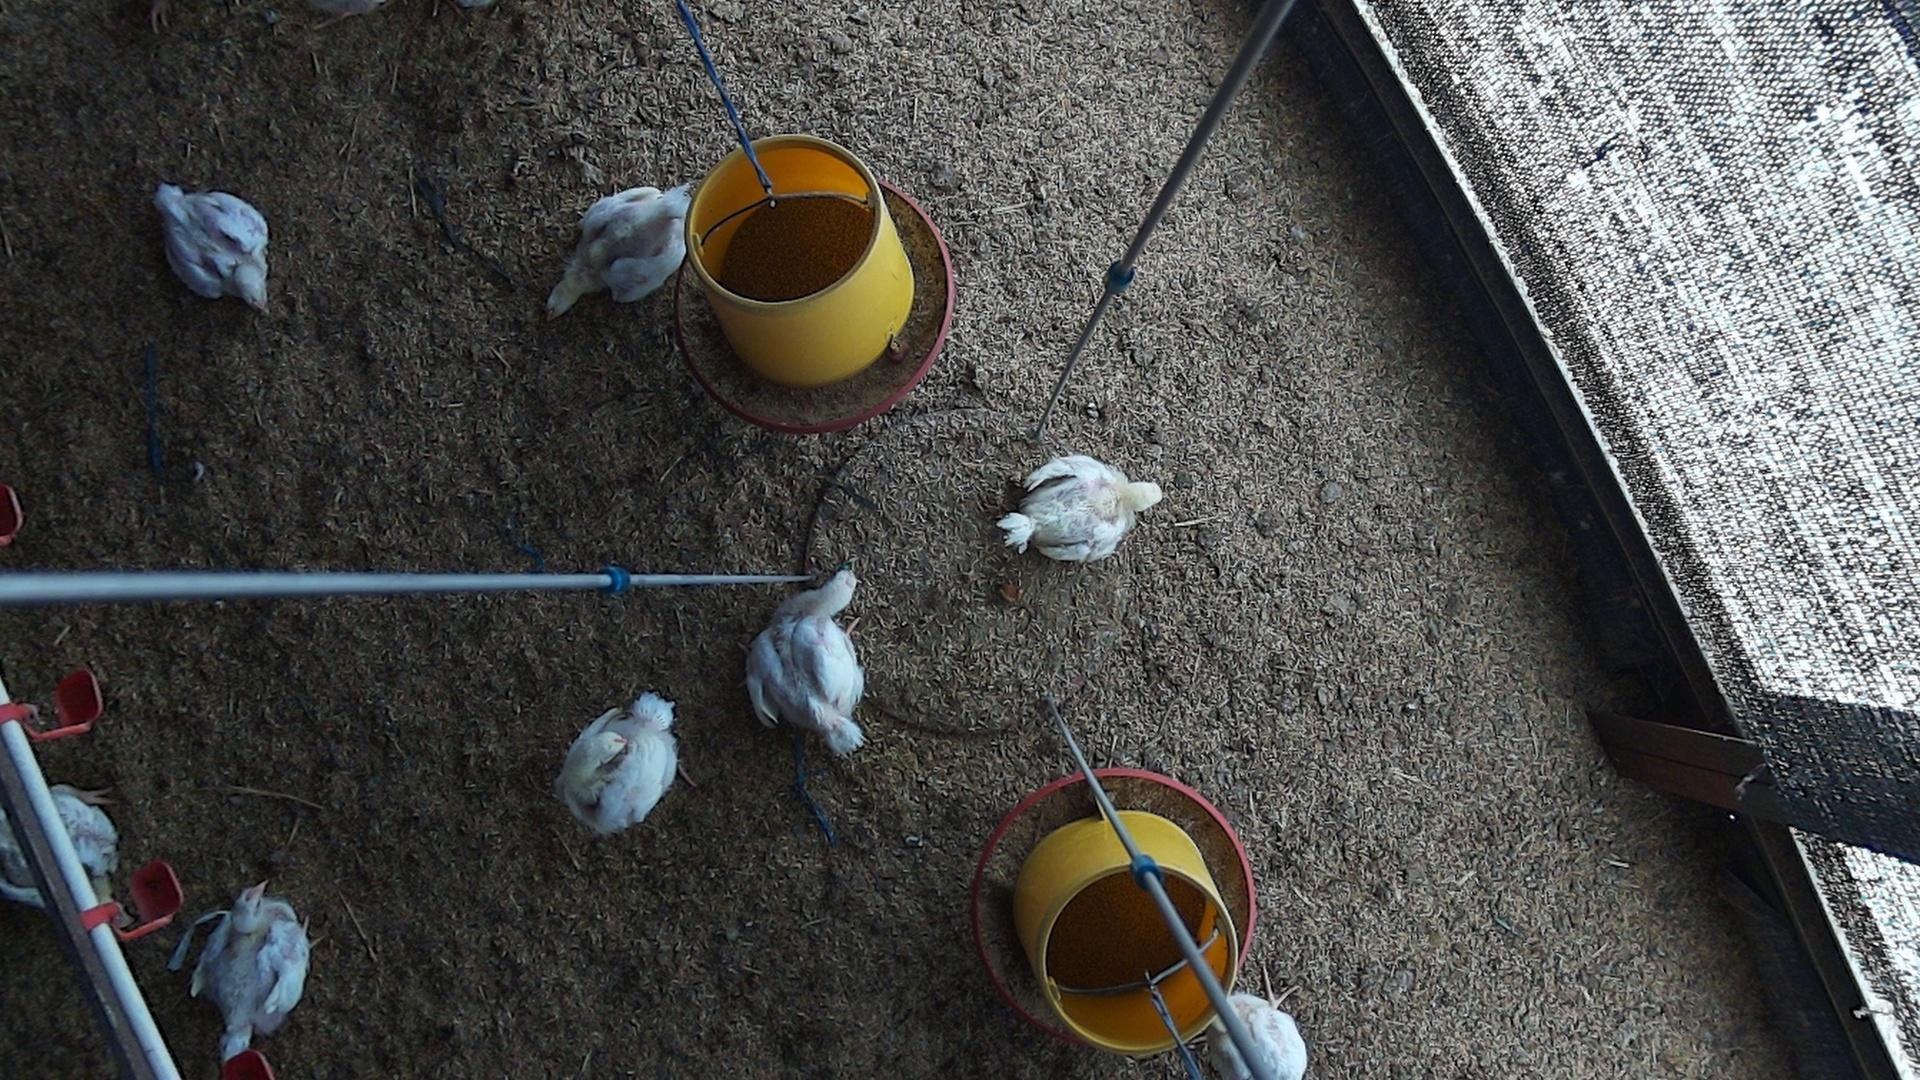ayam_broiler: (750, 570, 866, 753), (195, 882, 309, 1058), (549, 186, 694, 313), (1000, 454, 1162, 562), (556, 694, 678, 833), (0, 781, 117, 923), (157, 183, 270, 310), (1215, 994, 1308, 1080)
